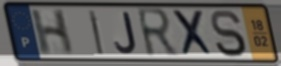H: (29, 8, 76, 57)
I: (87, 8, 106, 56)
J: (113, 11, 139, 55)
R: (134, 6, 181, 60)
S: (208, 8, 249, 59)
X: (169, 9, 217, 58)
